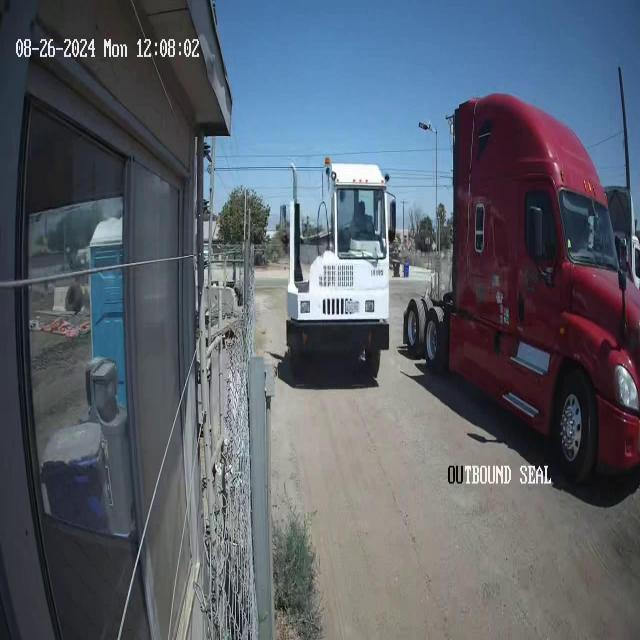TRUCK_IN: (403, 87, 639, 486)
